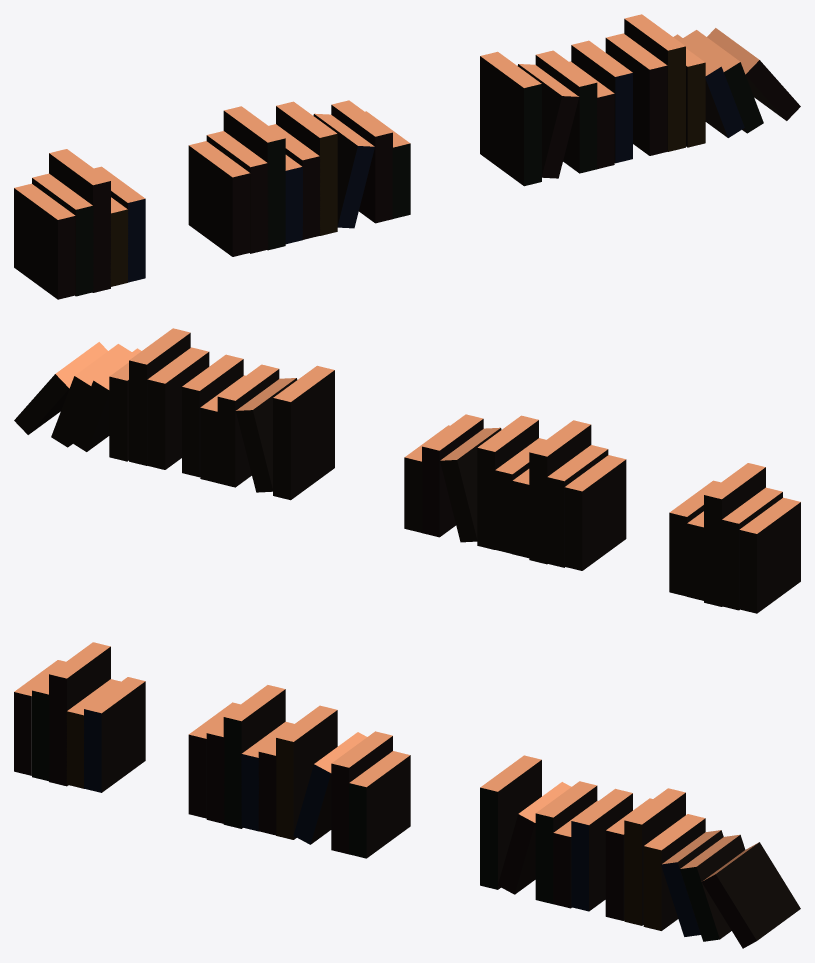
The model's file is Books.obj.
The picture shows the model from 3 angles, top to bottom: view 1: azimuth 30°, elevation 25°; view 2: azimuth 150°, elevation 25°; view 3: azimuth 330°, elevation 25°; orthographic projection.
Visible parts, largest first — view 1: Books; view 2: Books; view 3: Books.
Boxes of the visible parts, <box> form: Books: <box>14,14,800,299</box>; Books: <box>14,328,800,613</box>; Books: <box>14,642,800,948</box>.
Bounding box in the file's own units: 9.76 × 1.36 × 1.
